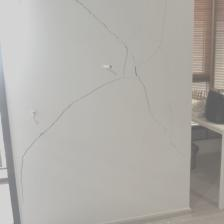High: (15, 1, 187, 211)
